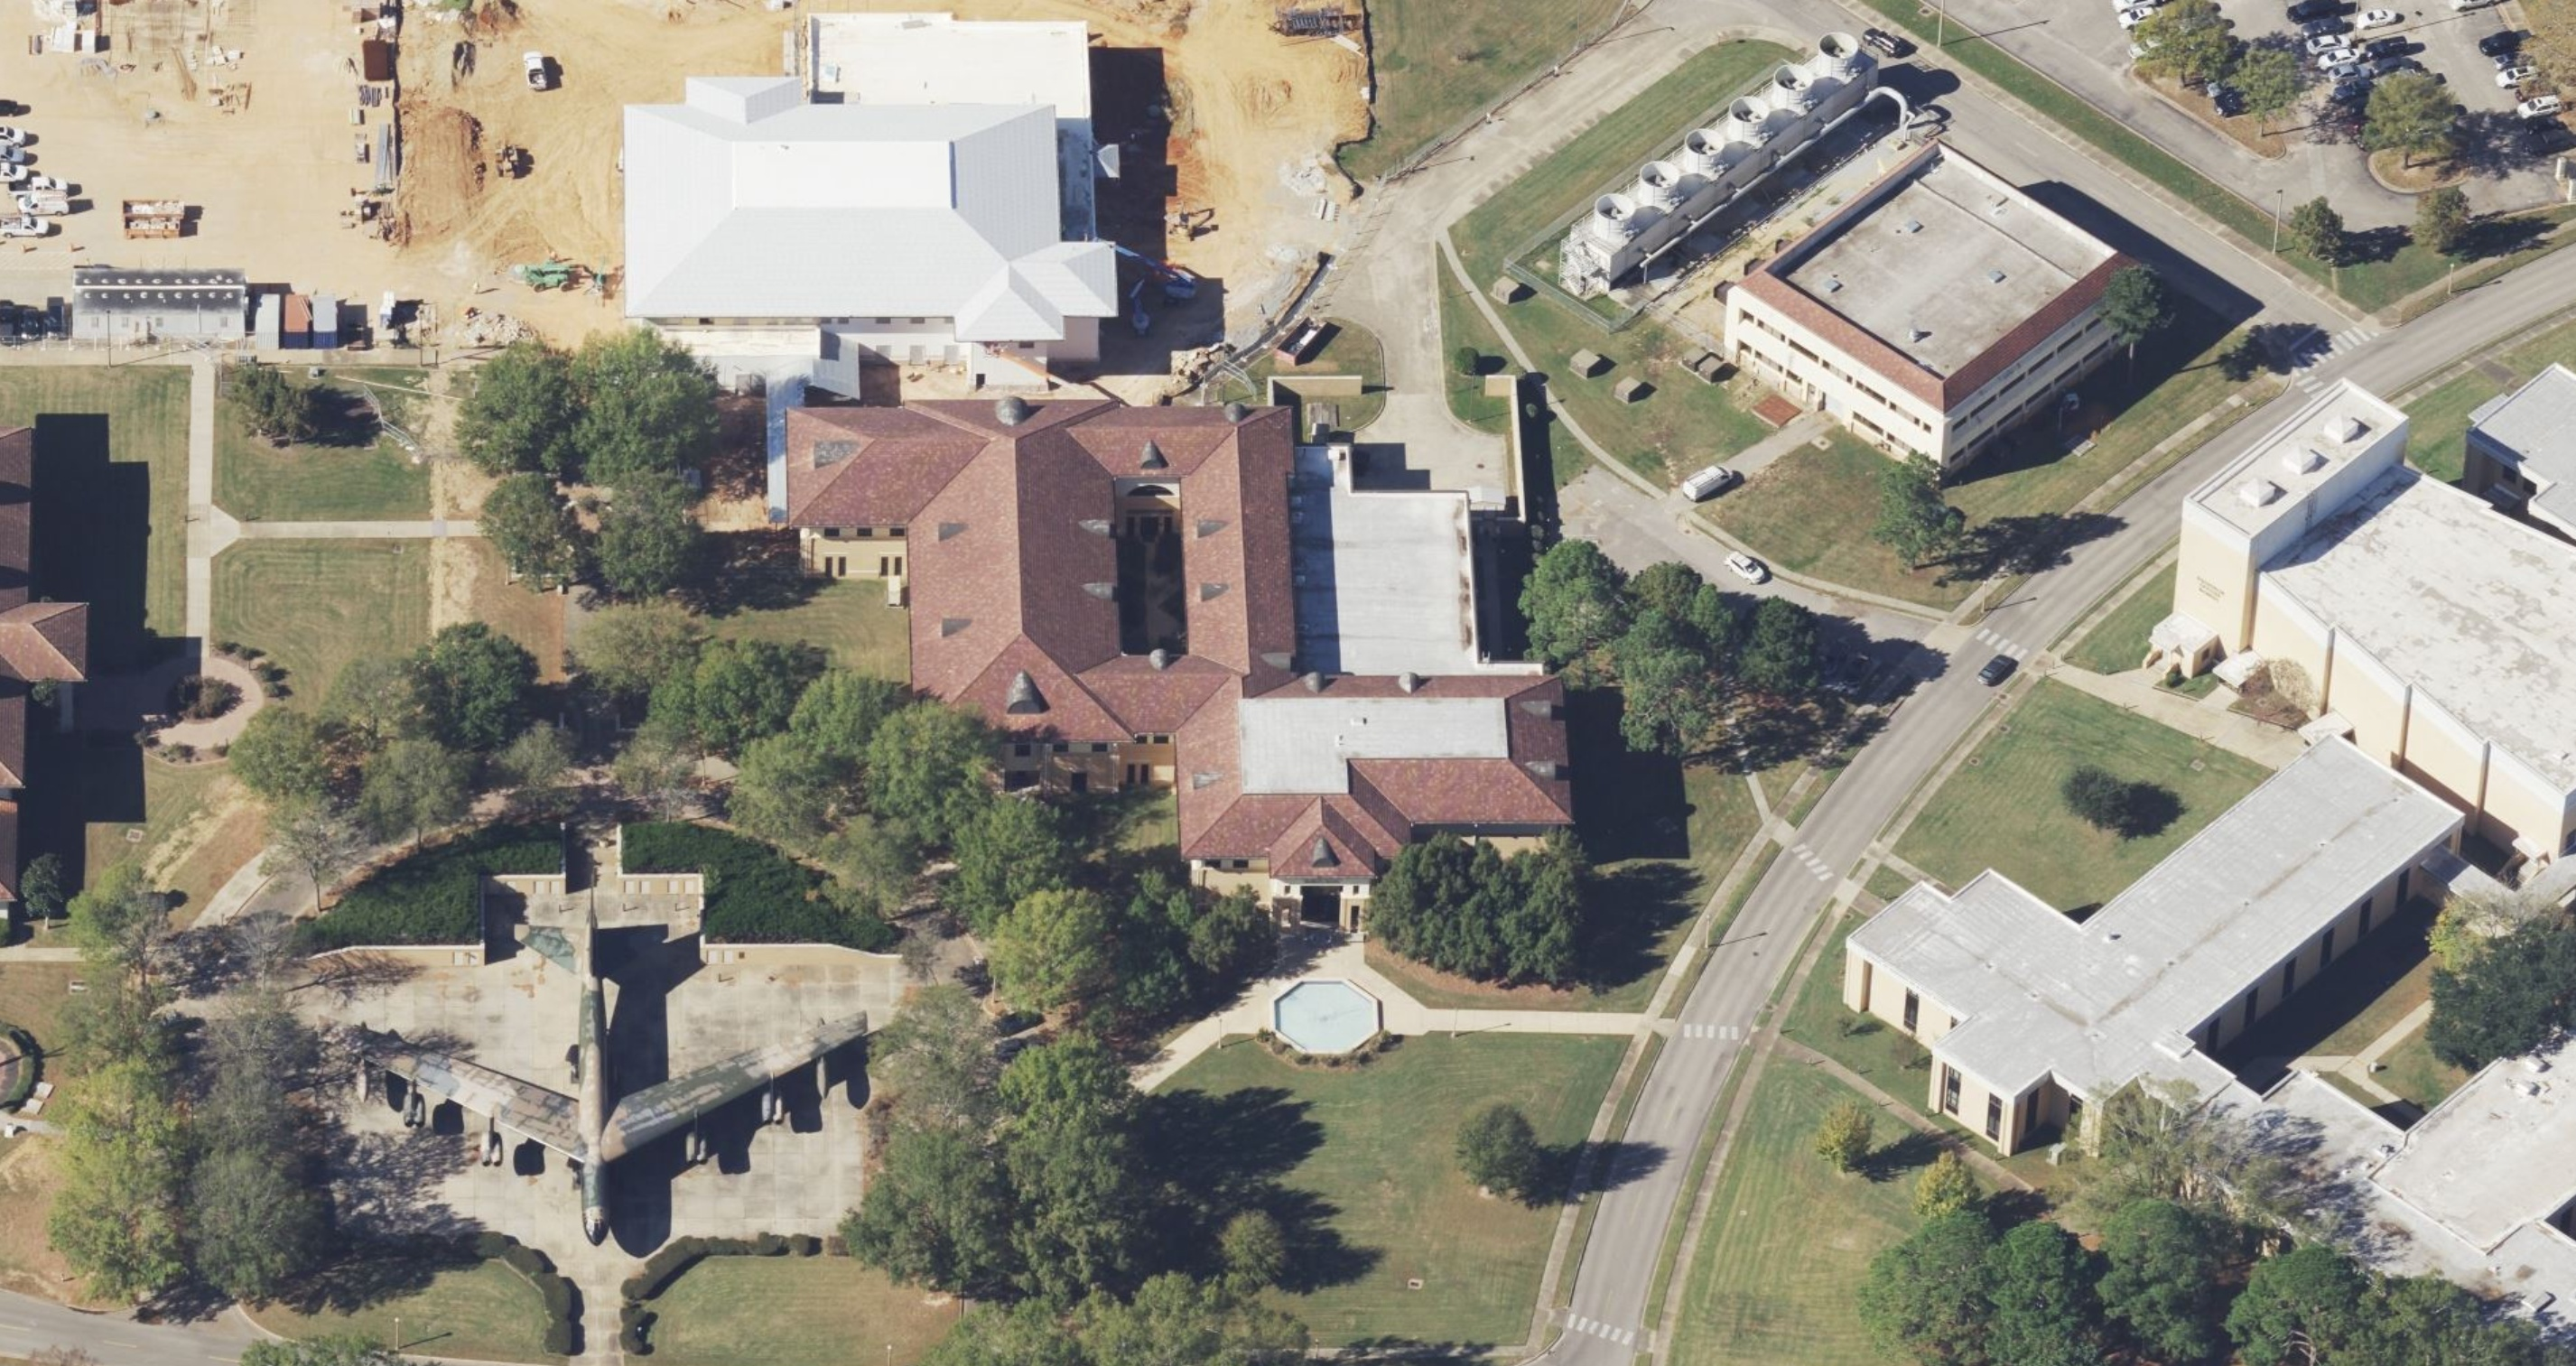B52: (317, 865, 867, 1247)
